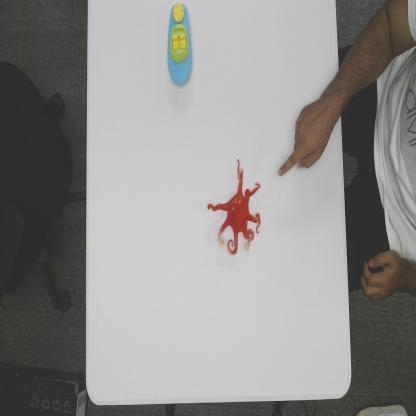Boat: (166, 0, 194, 89)
Hand: (276, 92, 330, 181)
Octopus: (206, 157, 262, 258)
